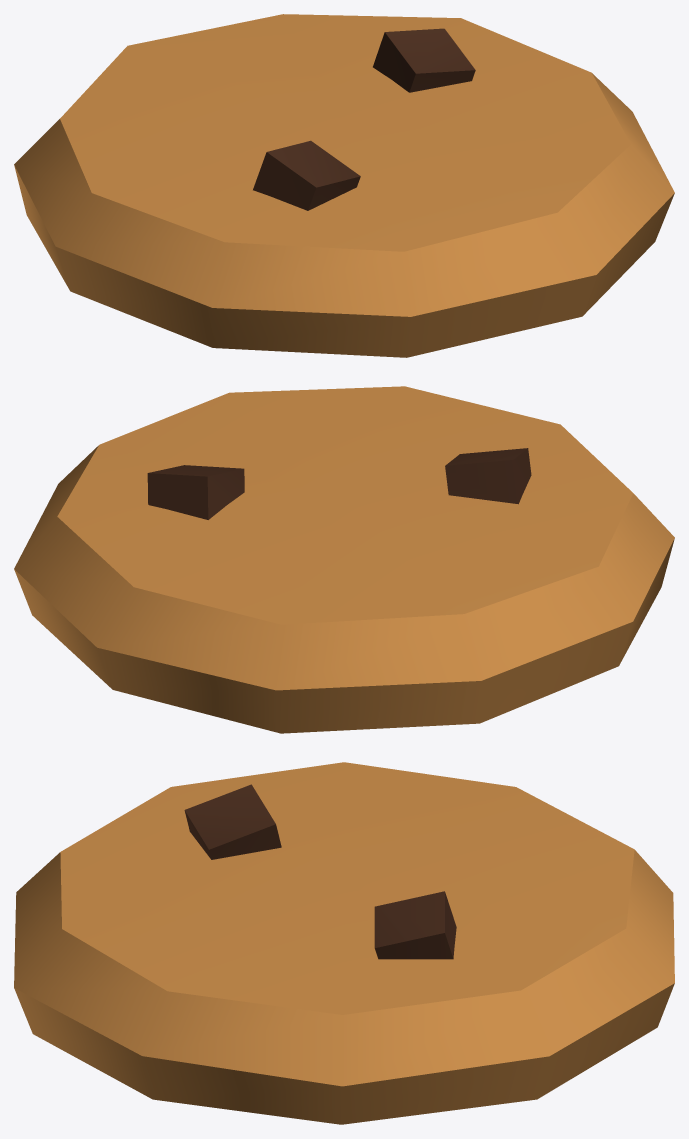
Rendered from biteCookie.glb.
The picture shows the model from 3 angles, top to bottom: view 1: azimuth 30°, elevation 25°; view 2: azimuth 150°, elevation 25°; view 3: azimuth 270°, elevation 25°; orthographic projection. The views are drawn at different scales.
Parts seen in each view (by area): view 1: biteCookie; view 2: biteCookie; view 3: biteCookie.
Boxes of the visible parts, <box> form: biteCookie: <box>14,14,674,357</box>; biteCookie: <box>14,386,674,733</box>; biteCookie: <box>14,762,674,1124</box>.
Bounding box in the file's own units: 0.0757 × 0.0174 × 0.0728.
